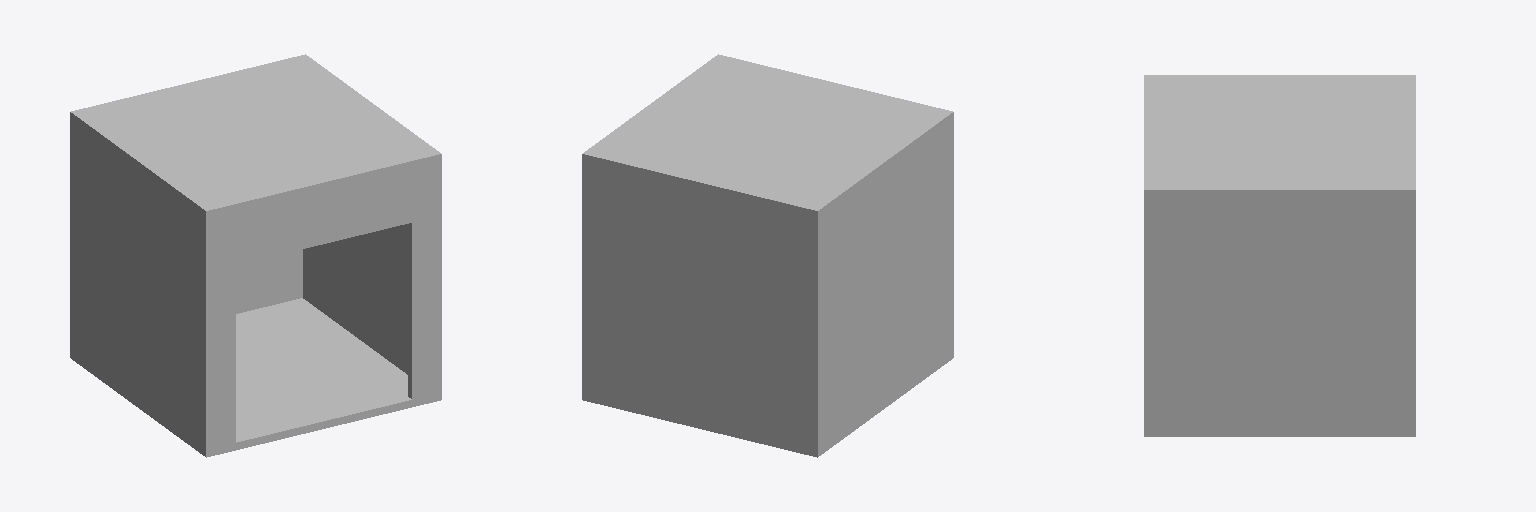
Rendered from elevator frame.obj.
3 renders of one model, left to right at view 1: azimuth 30°, elevation 25°; view 2: azimuth 150°, elevation 25°; view 3: azimuth 270°, elevation 25°, orthographic.
Visible parts, largest first — view 1: object 1; view 2: object 1; view 3: object 1.
Boxes of the visible parts, box(x1,y1,x2,y2) form: object 1: box(70, 54, 441, 457); object 1: box(582, 54, 953, 457); object 1: box(1144, 75, 1415, 436).
Size of the model in its own units: 16 by 16 by 16.